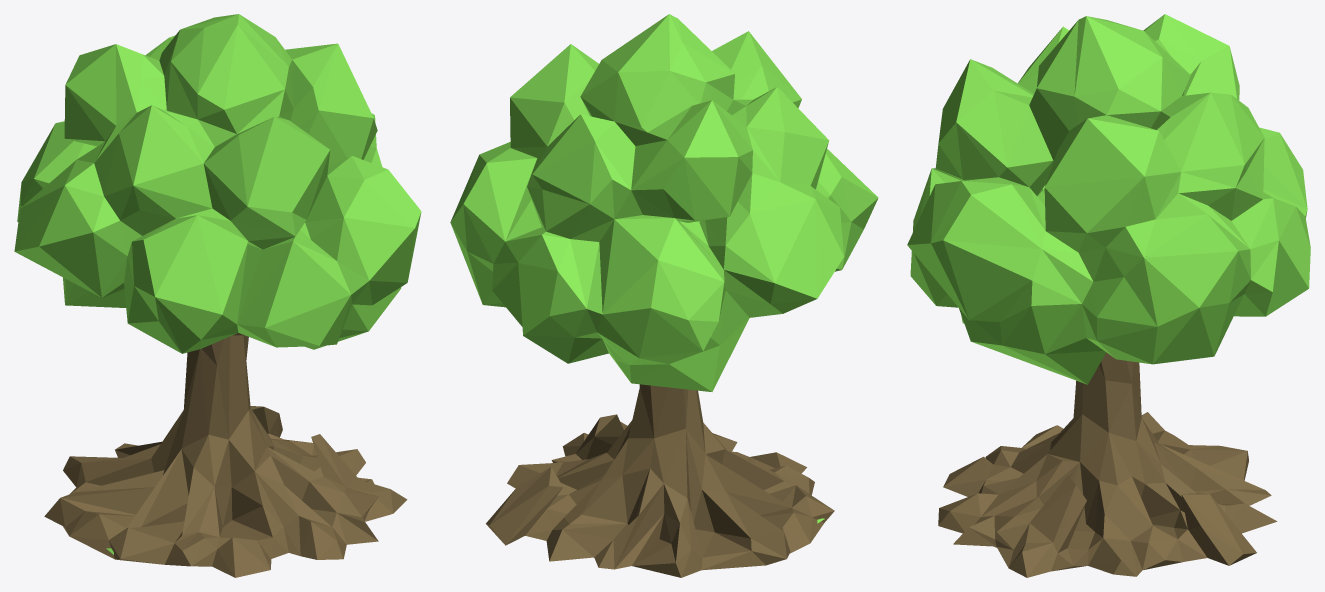
Rendered from Tree_8-col.glb.
3 renders of one model, left to right at view 1: azimuth 30°, elevation 25°; view 2: azimuth 150°, elevation 25°; view 3: azimuth 270°, elevation 25°, orthographic. The views are drawn at different scales.
Parts seen in each view (by area): view 1: geometry_0.008; view 2: geometry_0.008; view 3: geometry_0.008.
Part boxes in pixels (box(x1,y1,x2,y2)): geometry_0.008: box(14, 14, 421, 577); geometry_0.008: box(450, 14, 878, 577); geometry_0.008: box(907, 14, 1310, 577).
Size of the model in its own units: 1.49 by 1.98 by 1.45.
